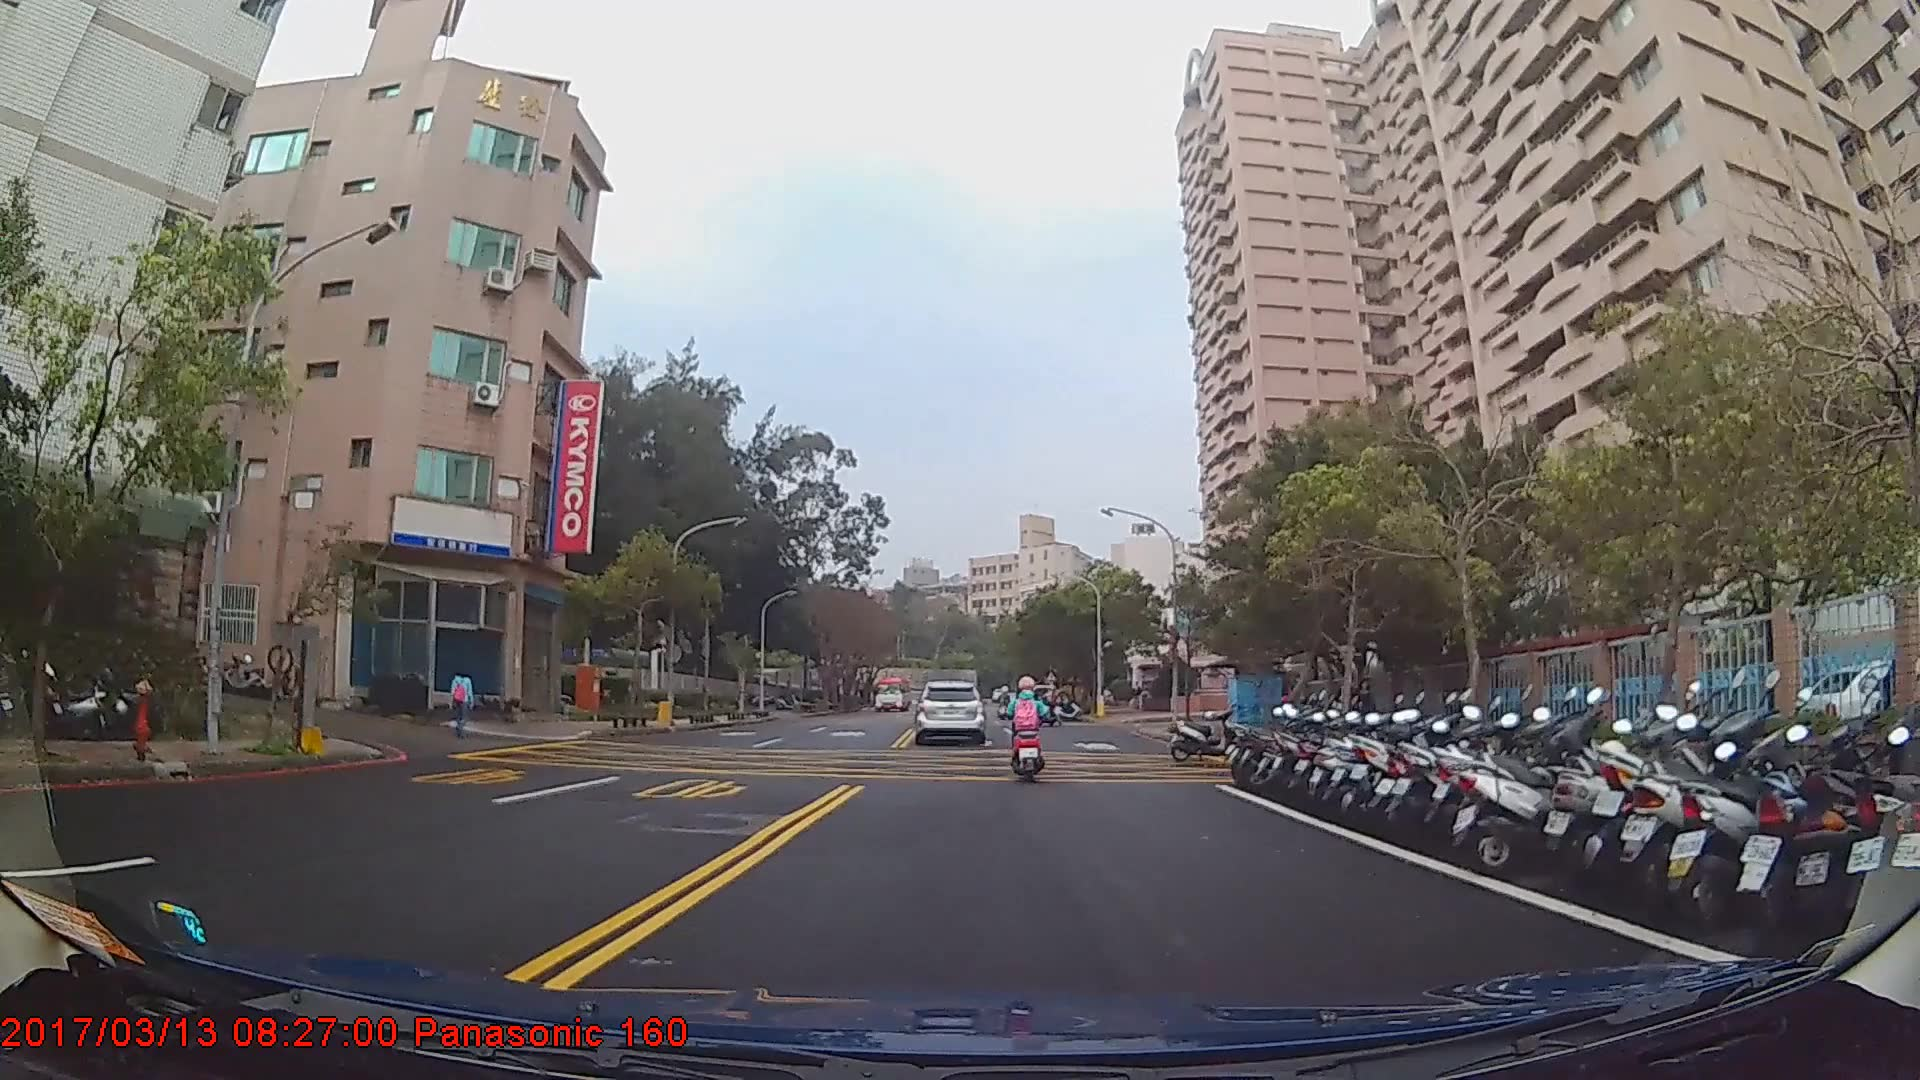pedestrian: (450, 661, 476, 739)
rider: (1003, 668, 1053, 782)
vehicle: (913, 677, 982, 743), (870, 673, 912, 712)
